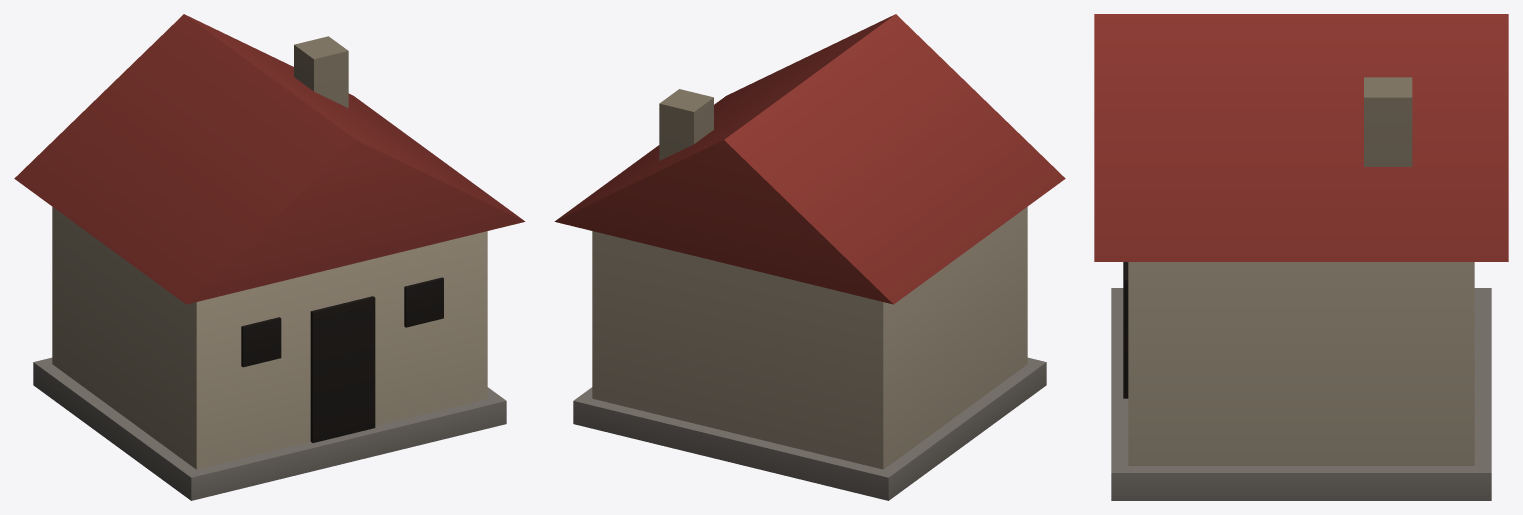
Rendered from house_b.glb.
The picture shows the model from 3 angles, left to right: view 1: azimuth 30°, elevation 25°; view 2: azimuth 150°, elevation 25°; view 3: azimuth 270°, elevation 25°; orthographic projection. The views are drawn at different scales.
Visible parts, largest first — view 1: house_b; view 2: house_b; view 3: house_b.
Boxes of the visible parts, x1,y1,x2,y2 form: house_b: (14,14,525,500); house_b: (554,14,1065,500); house_b: (1094,14,1508,500).
Bounding box in the file's own units: 4.9 × 4.52 × 4.3.
